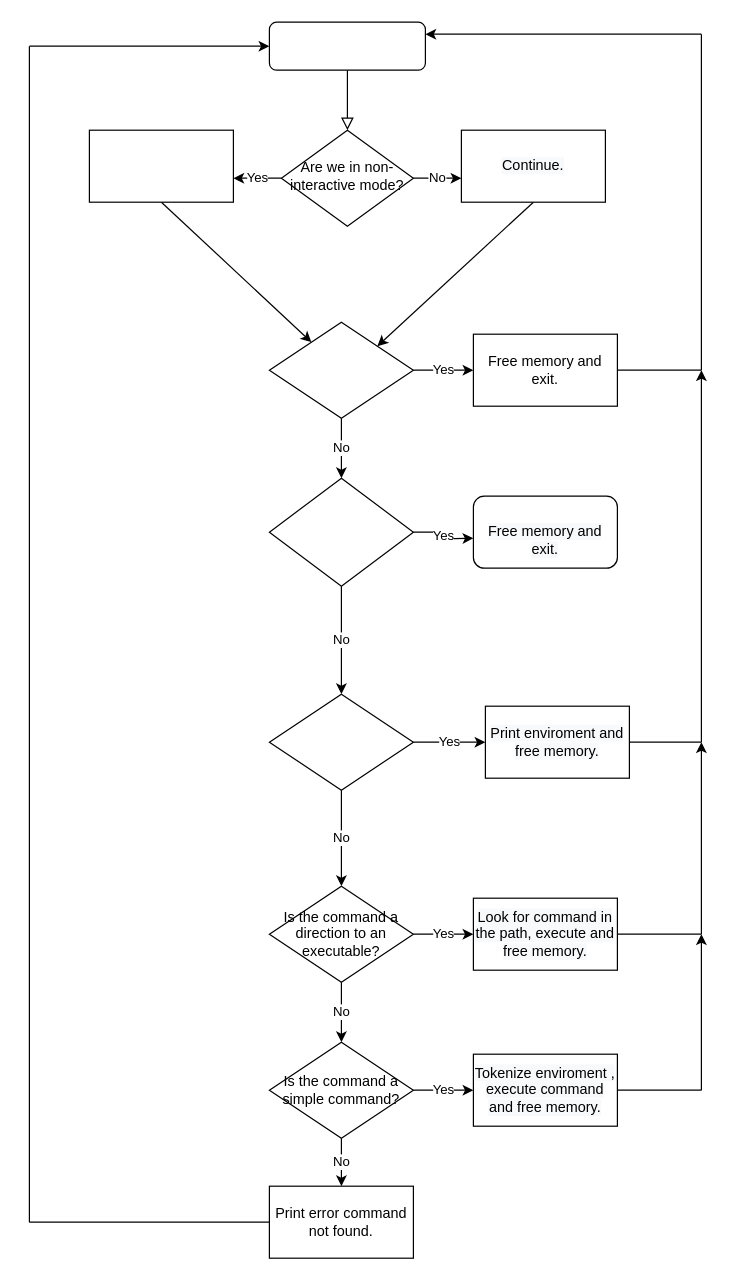
Some shapes in this 732 by 1279 pixel diagram are drawn without their labels. Here are the shapes that lost their labels. From the top down, the centre of each, then its label:
pixel 346 45: Infinite loop that prompts the user for commands
pixel 160 165: Use read.
pixel 340 369: Is the command "NULL"?
pixel 340 531: Is the command "exit"
pixel 340 741: Is the command the env command?
